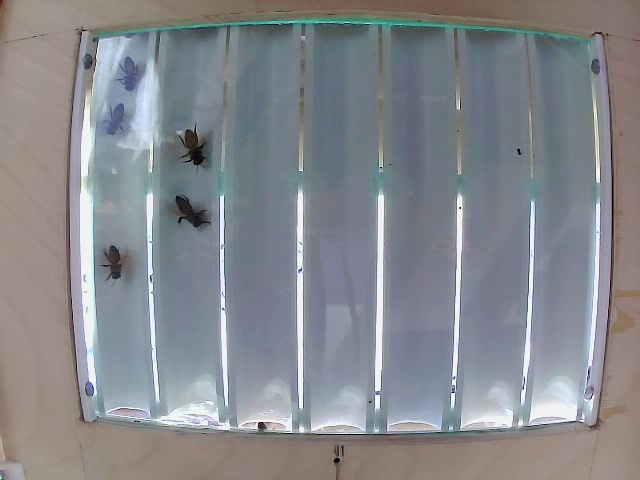bee: (167, 187, 215, 238), (100, 102, 142, 142), (113, 52, 152, 94), (174, 129, 209, 174), (95, 244, 134, 275)
